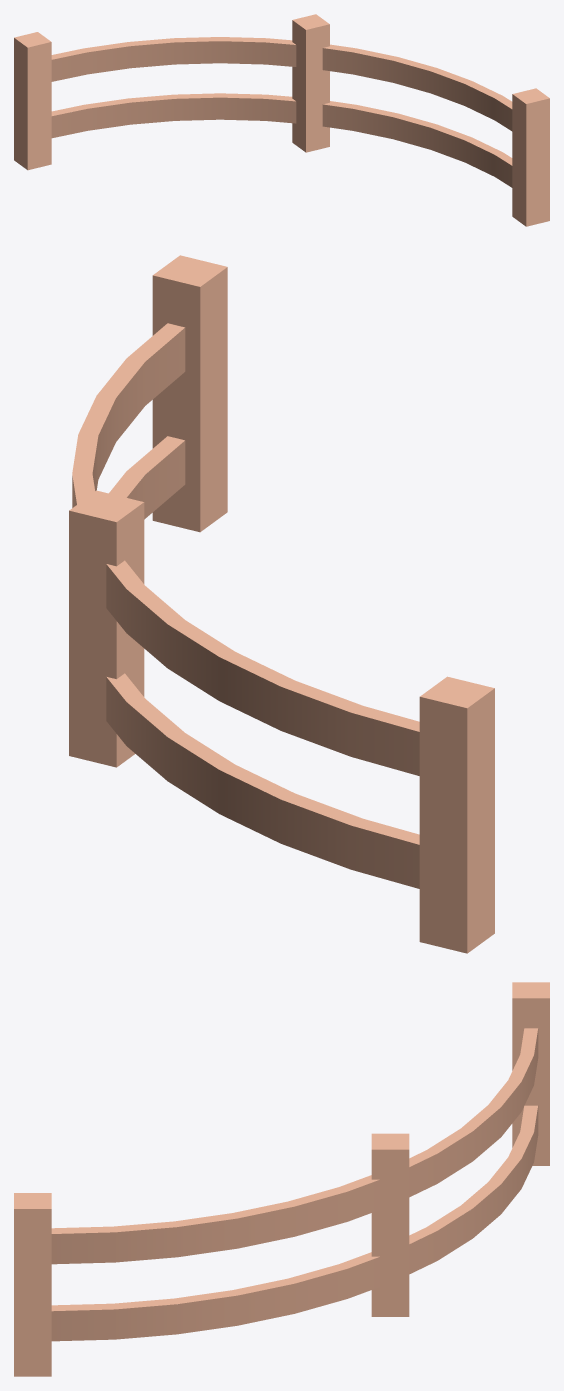
File: fence_bendCenter.glb
3 views of the same model, one above another, from view 1: azimuth 30°, elevation 25°; view 2: azimuth 150°, elevation 25°; view 3: azimuth 270°, elevation 25° (orthographic). The views are drawn at different scales.
Parts seen in each view (by area): view 1: fence_bendCenter; view 2: fence_bendCenter; view 3: fence_bendCenter.
Part boxes in pixels (x1=…): fence_bendCenter: x1=14, y1=14, x2=549, y2=226; fence_bendCenter: x1=69, y1=255, x2=494, y2=953; fence_bendCenter: x1=14, y1=982, x2=549, y2=1376.
Bounding box in the file's own units: 1 × 0.345 × 1.
